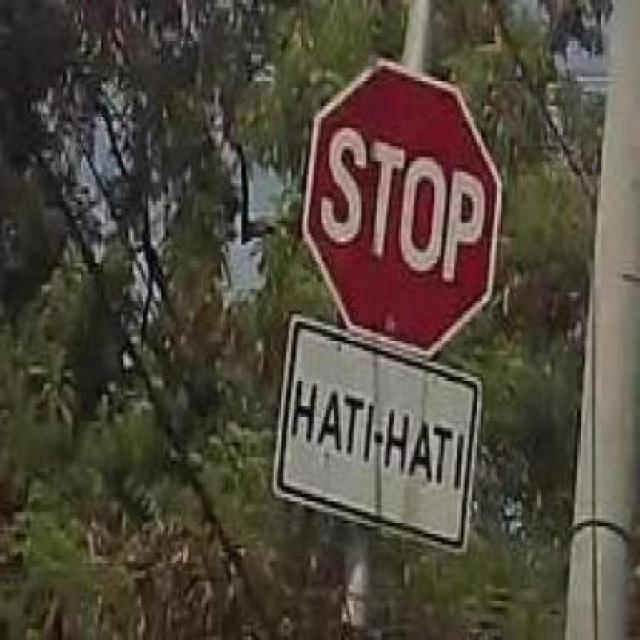stop: (286, 55, 512, 367)
